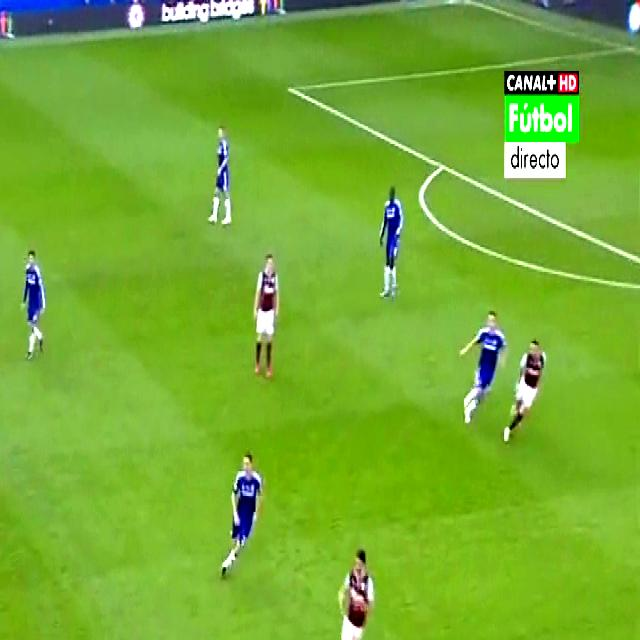soccer-player: (324, 501, 383, 640), (214, 446, 266, 594), (457, 288, 502, 434), (502, 338, 559, 446), (201, 117, 245, 239), (12, 235, 54, 362), (369, 180, 410, 308), (250, 243, 284, 387)
